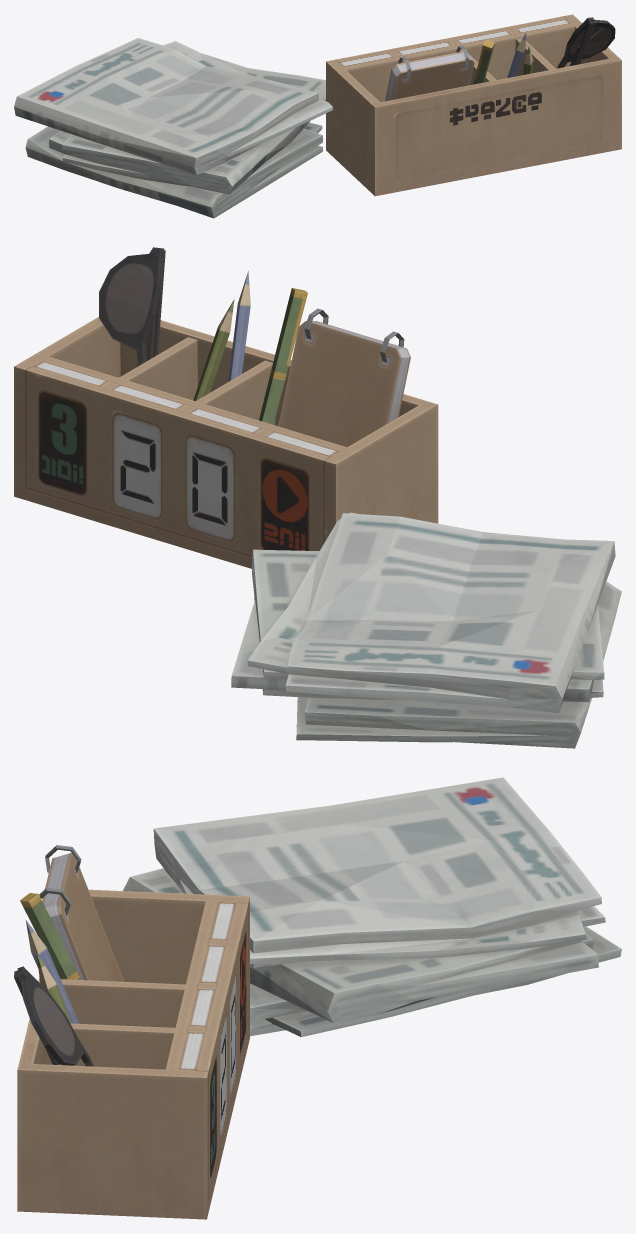
File: WarehouseManager_05.obj
3 renders of one model, top to bottom at view 1: azimuth 30°, elevation 25°; view 2: azimuth 150°, elevation 25°; view 3: azimuth 270°, elevation 25°, orthographic. The views are drawn at different scales.
Size of the model in its own units: 1.15 by 0.3309 by 0.8145.
3 materials, 3 textured.
